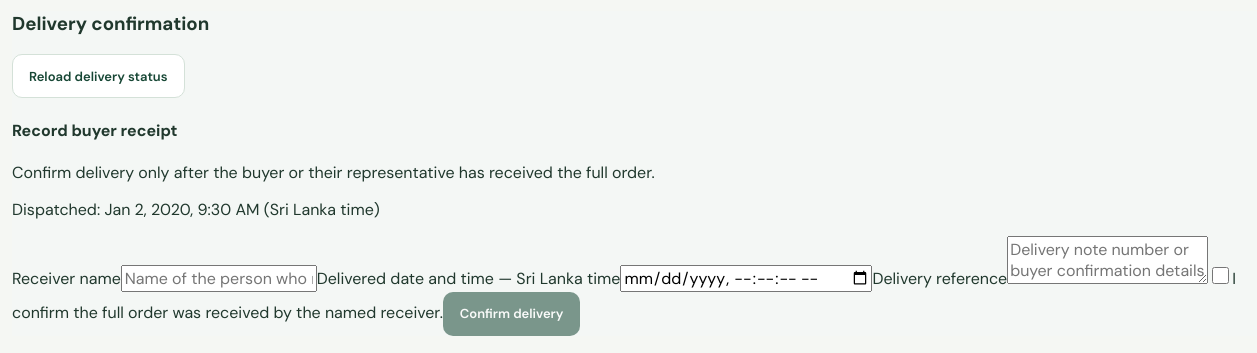
Test: Order delivery › requires explicit confirmation
The width and height of the screenshot is (1257, 353).
Type "  Test Buyer  " into the field labelled "Receiver name".
click(219, 278); type("  Test Buyer  ")  # box [121,265,317,292]
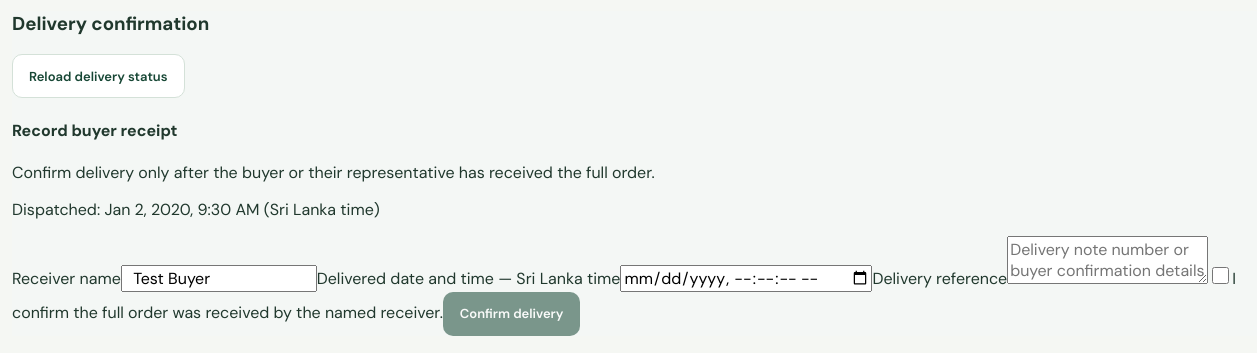
Type "2020-01-02T10:00:00" into the field labelled "Delivered date and time — Sri Lanka time".
click(746, 278); type("2020-01-02T10:00:00")  # box [620,265,872,292]
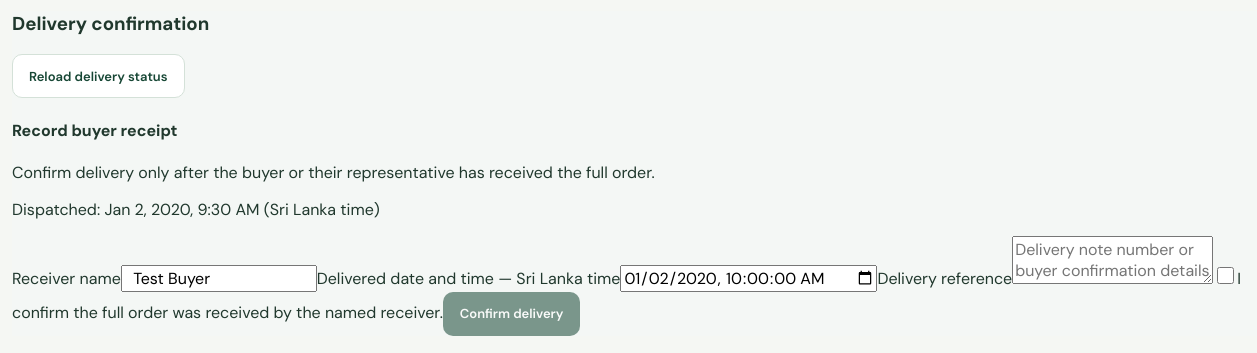
Type "  Delivery note 42  " into the text box labelled "Delivery reference".
click(1113, 260); type("  Delivery note 42  ")  # box [1012,236,1213,284]
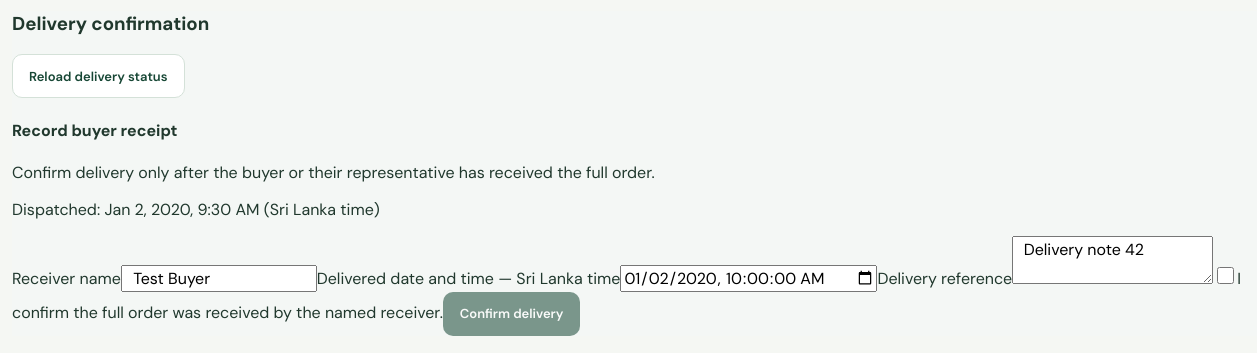
Check: the button "Confirm delivery" is disabled, box [443,292,580,336]
Click the checkbox.
click(1226, 276)  # box [1217,267,1234,284]
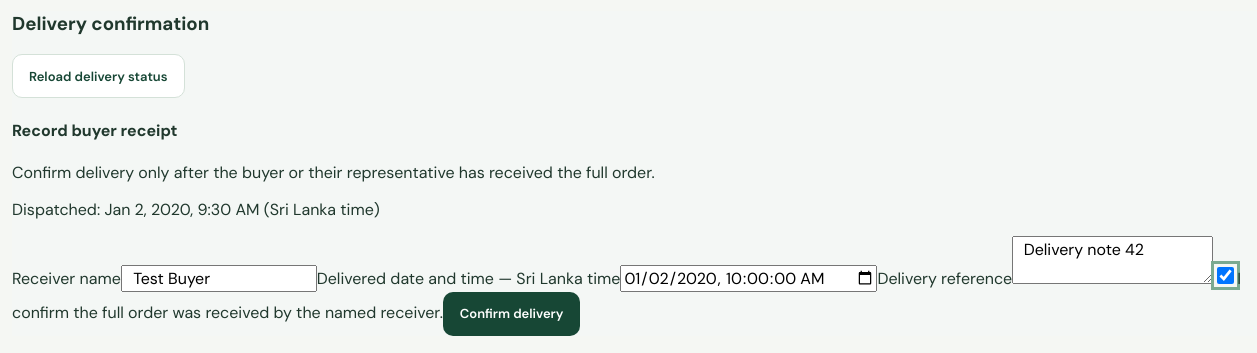
Check: the button "Confirm delivery" is enabled, box [443,292,580,336]
